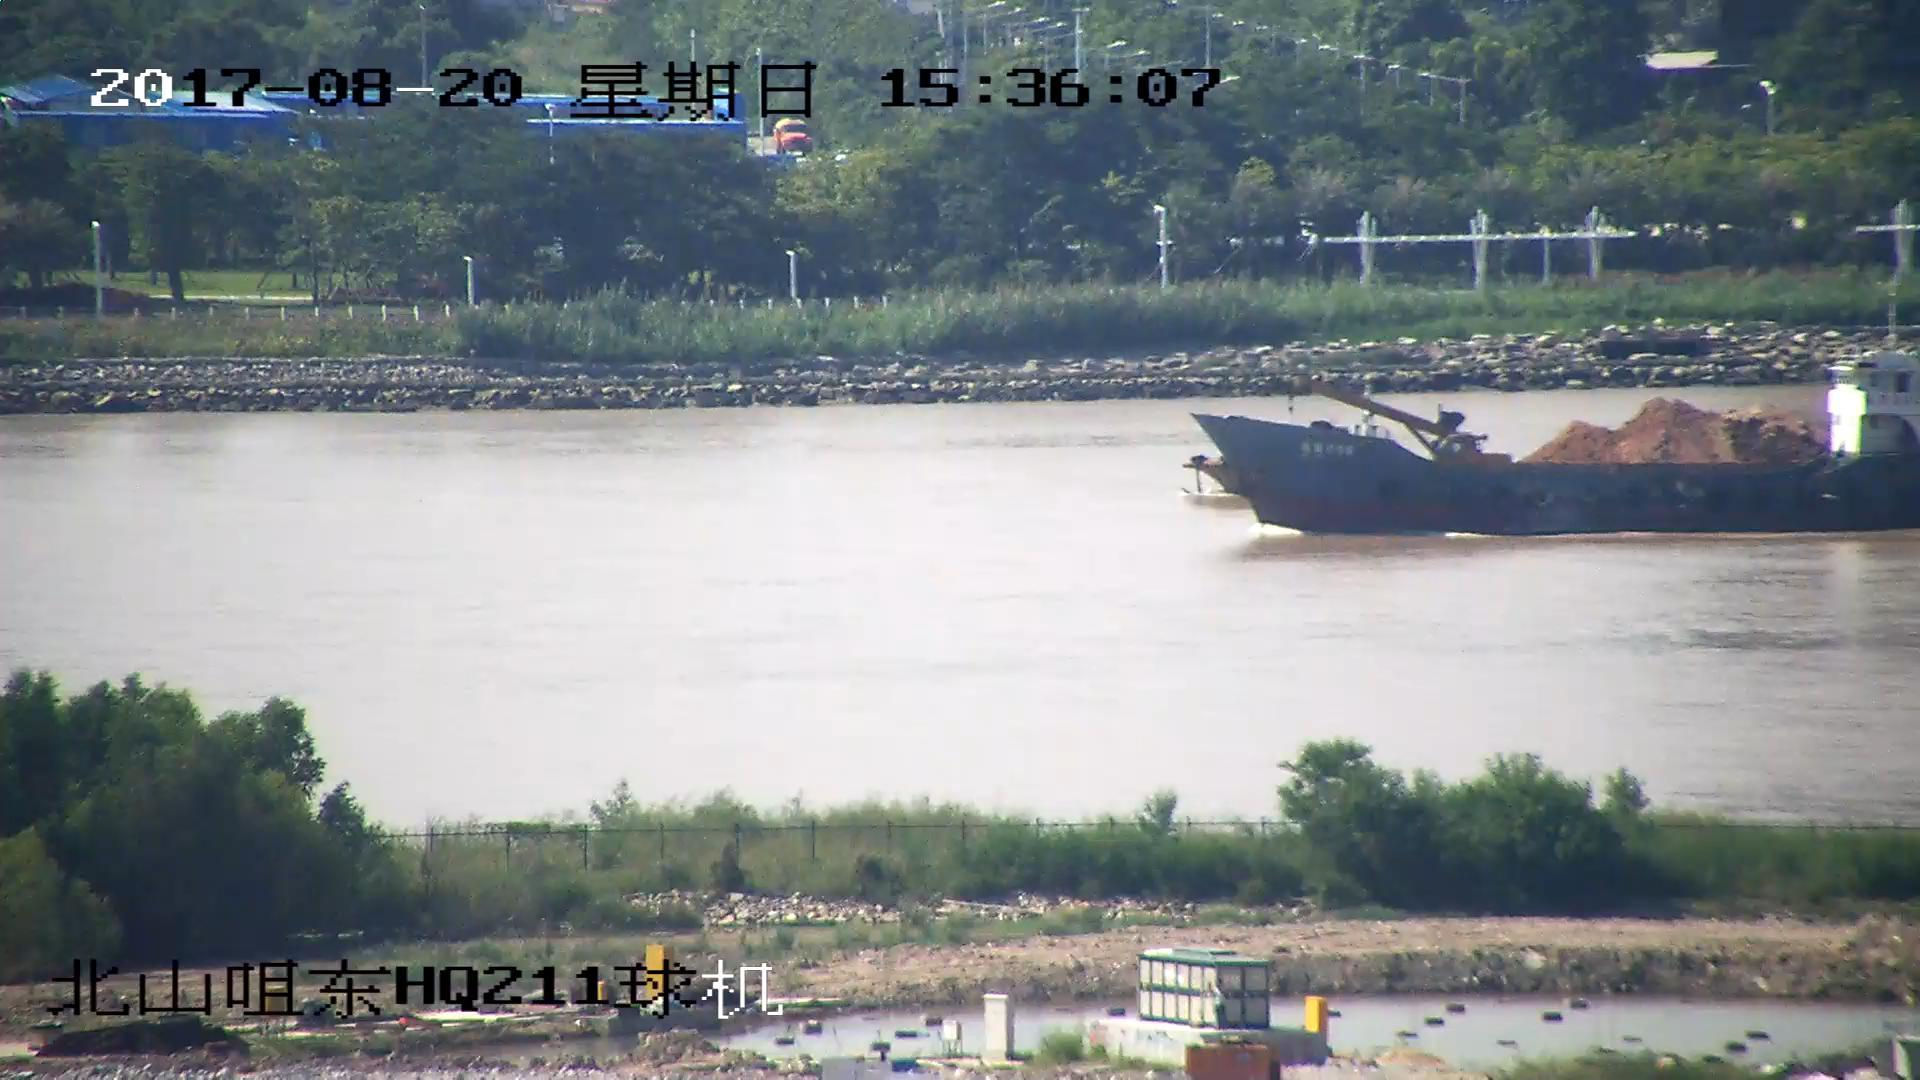Ship: (1200, 351, 1920, 535), (1175, 392, 1920, 512)
